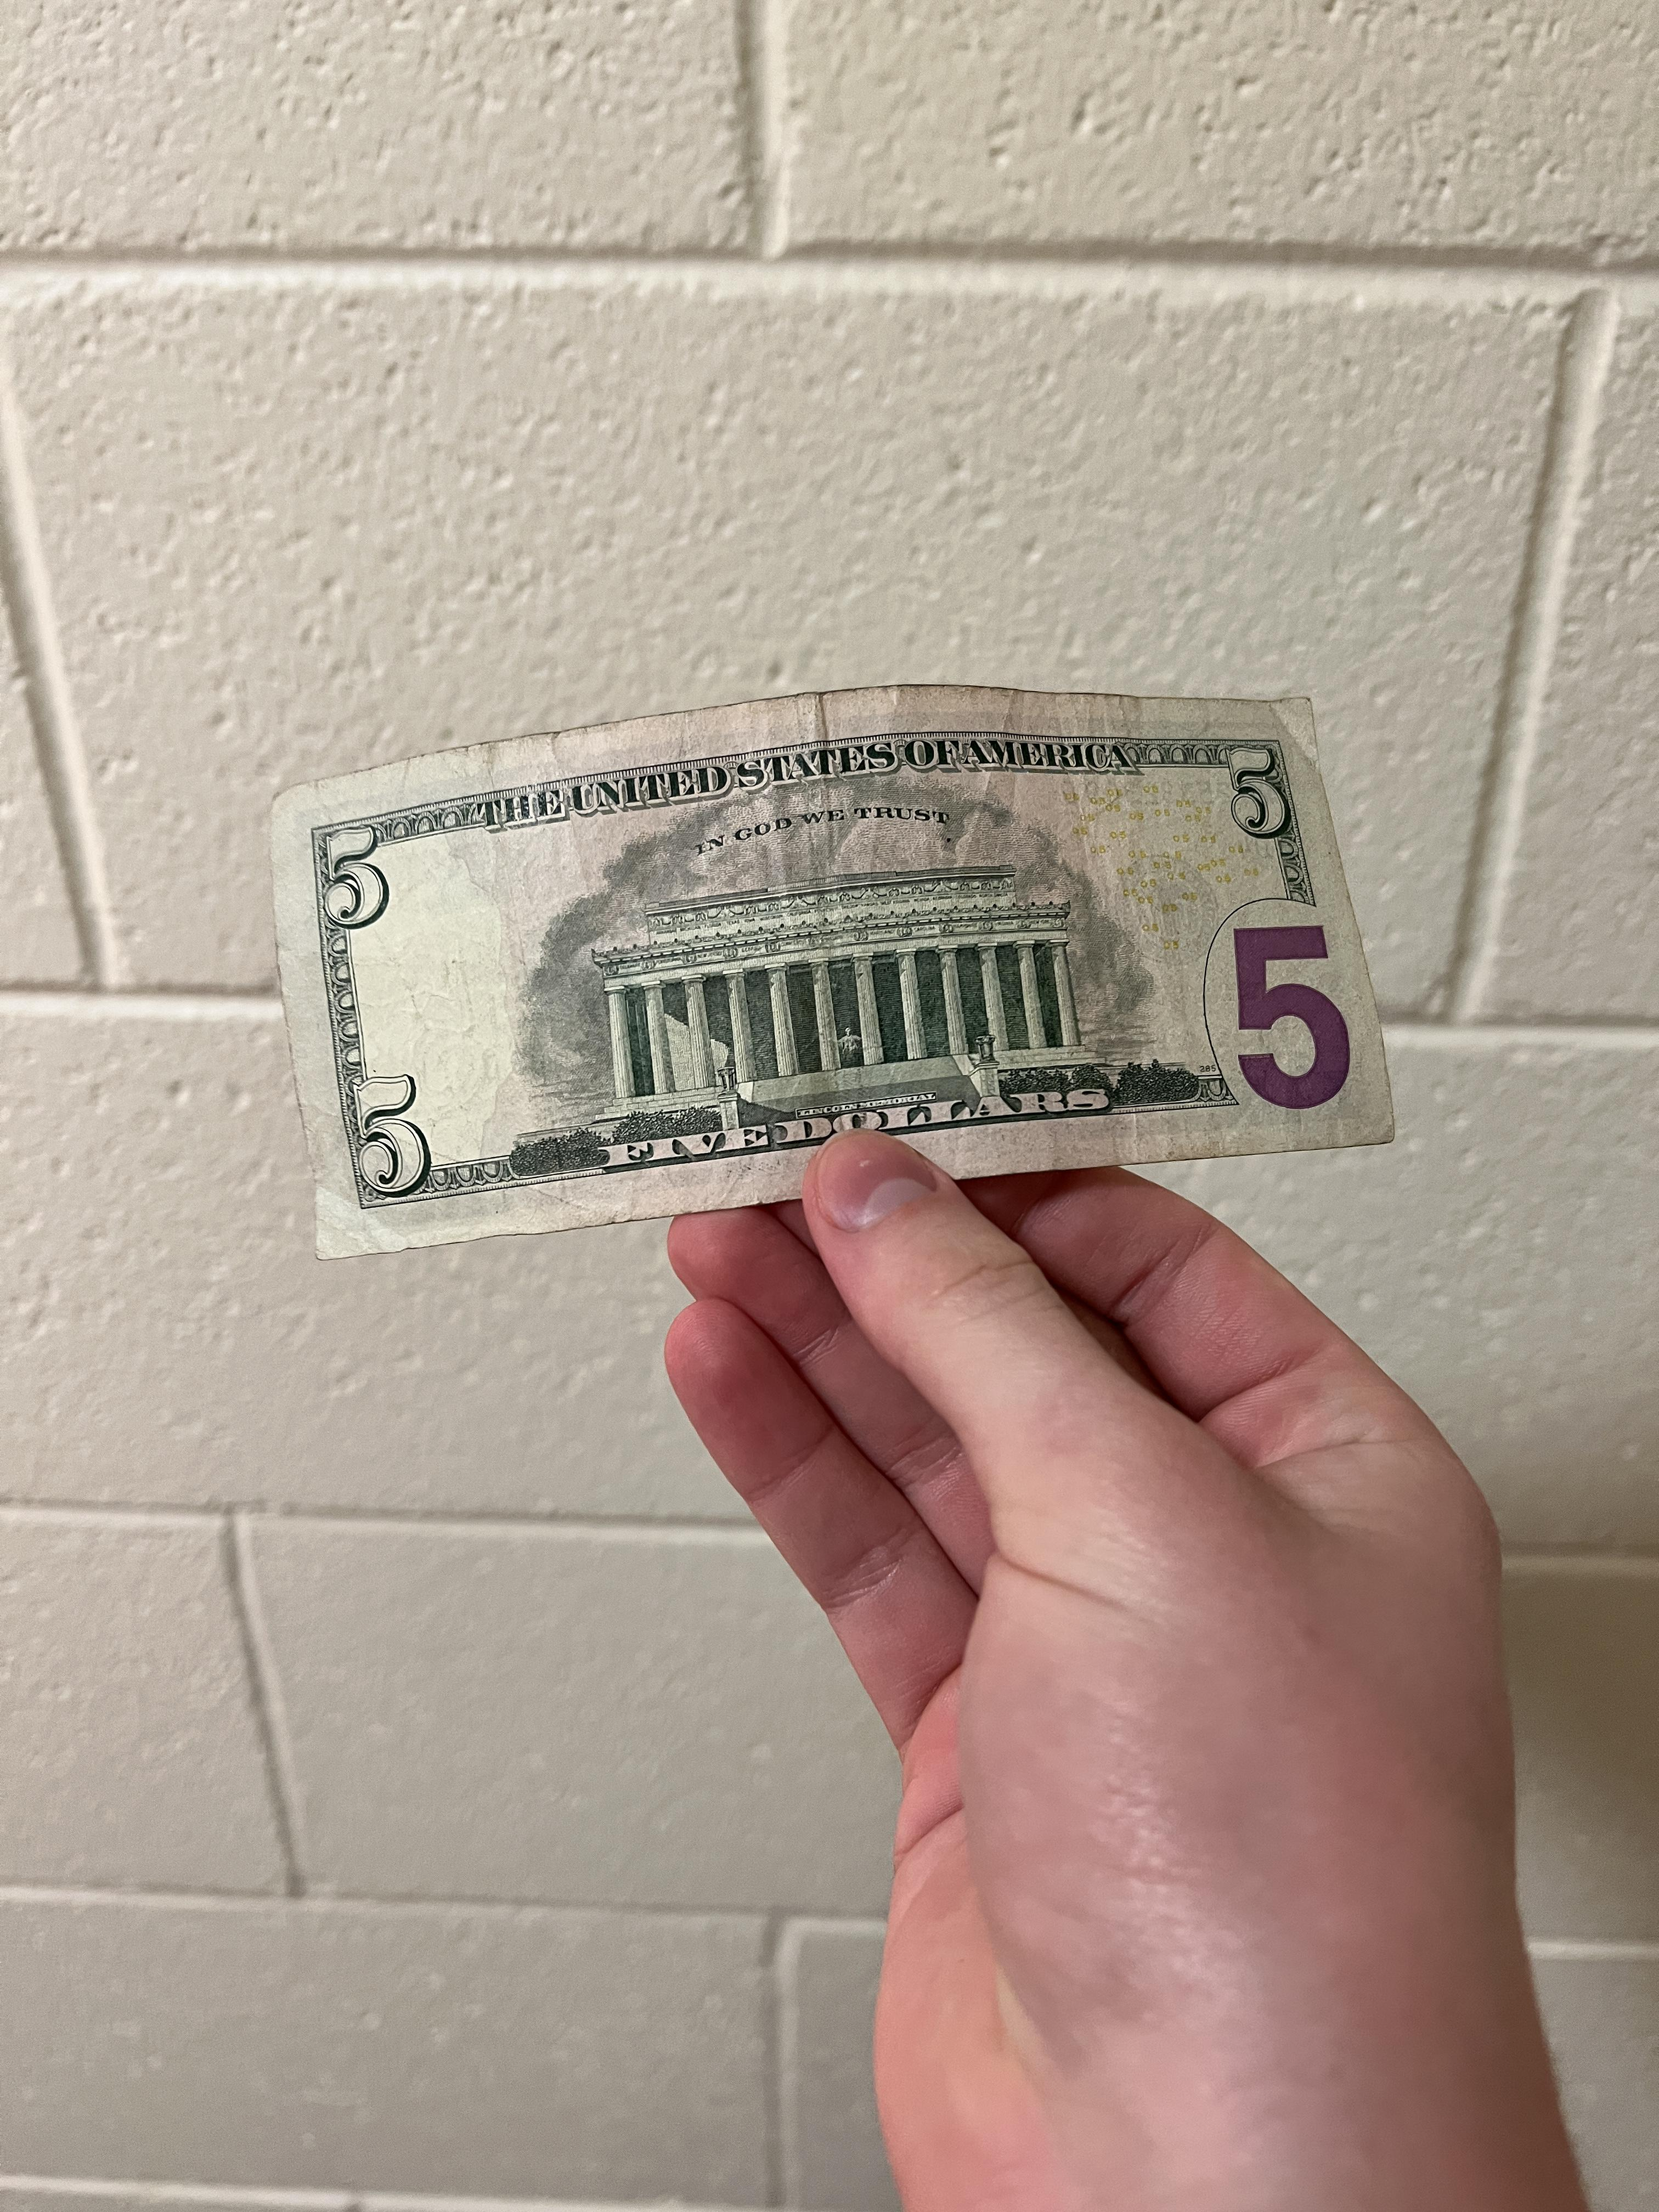FiveBill: (254, 685, 1403, 1275)
